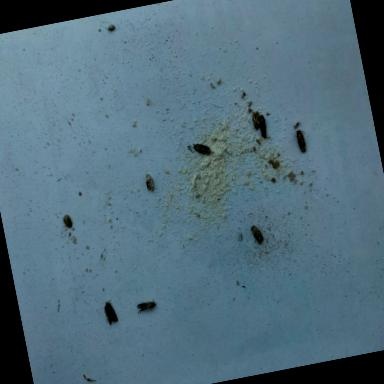pbw: (103, 299, 118, 327), (189, 141, 211, 159), (135, 298, 157, 315), (293, 130, 307, 154), (256, 115, 268, 143), (250, 224, 264, 246), (144, 173, 155, 193), (251, 111, 261, 131)
